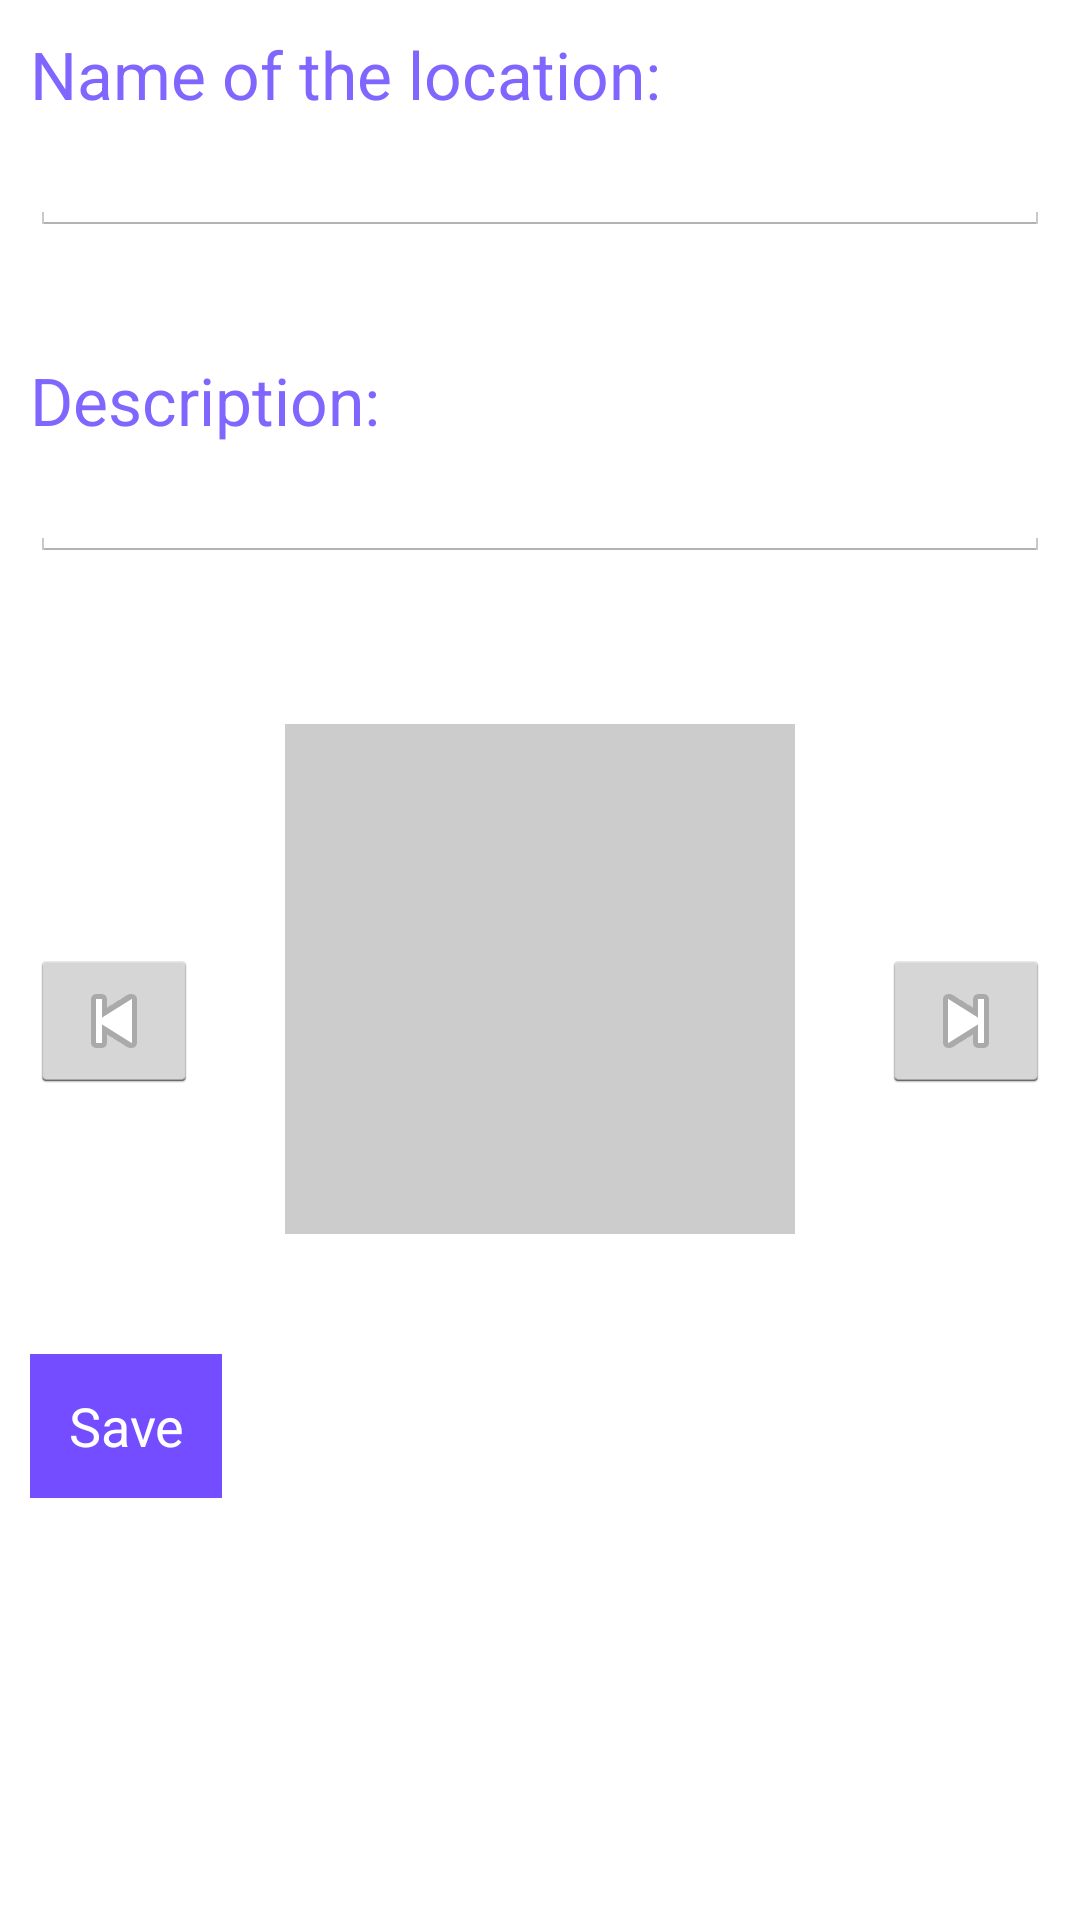

Locate icon controls on the screen. Image size 1080px x 1920px, boxes as Rect(x1, y1, x2, y2).
next: Rect(894, 962, 1038, 1082)
previous: Rect(42, 962, 186, 1082)
